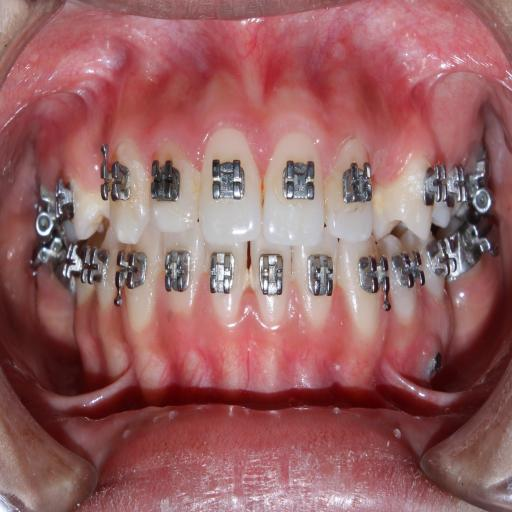correct_brace: (374, 143, 436, 244), (276, 152, 320, 210), (342, 152, 376, 211), (208, 152, 248, 200), (98, 157, 130, 203), (151, 158, 180, 203)
incorrect_brace: (326, 140, 376, 242), (151, 132, 196, 241), (421, 158, 447, 206)
